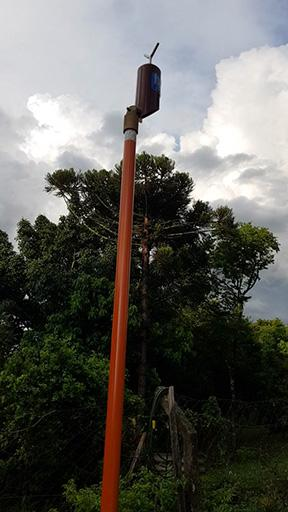Detector_Tensao_Contato: (134, 41, 163, 123)
Vara_Manobra: (100, 120, 138, 512)
